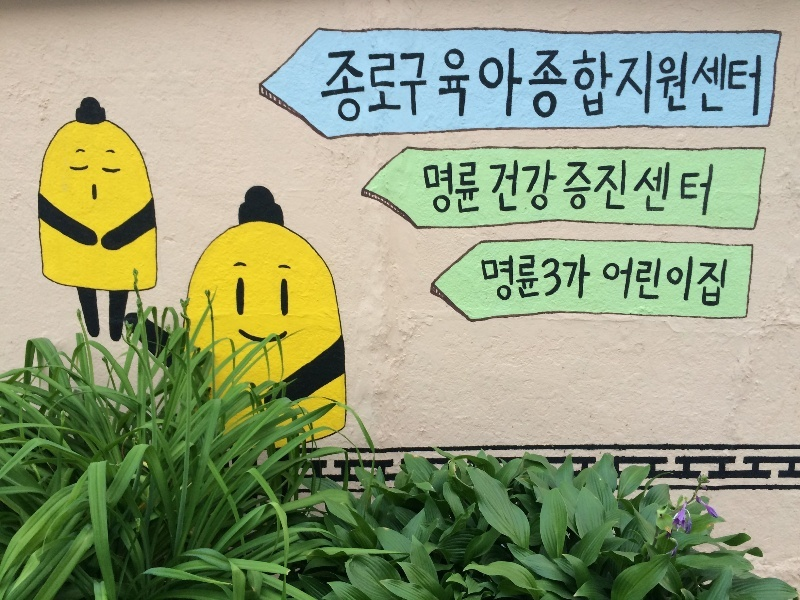text: (337, 47, 352, 126), (353, 47, 368, 126), (369, 47, 384, 126), (385, 47, 400, 126), (401, 47, 416, 126), (417, 47, 432, 126), (433, 47, 448, 126), (449, 47, 464, 126), (465, 47, 480, 126), (481, 47, 496, 126), (497, 47, 512, 126), (513, 47, 528, 126), (529, 47, 544, 126), (545, 47, 560, 126), (561, 47, 576, 126), (577, 47, 592, 126), (593, 47, 608, 126), (609, 47, 624, 126), (625, 47, 640, 126), (641, 47, 656, 126), (657, 47, 672, 126), (673, 47, 688, 126), (689, 47, 704, 126), (705, 47, 720, 126), (721, 47, 736, 126), (737, 47, 752, 126), (753, 47, 766, 126), (324, 47, 336, 126), (433, 159, 448, 219), (449, 159, 464, 219), (465, 159, 480, 219), (481, 159, 496, 219), (497, 159, 512, 219), (513, 159, 528, 219), (529, 159, 544, 219), (545, 159, 560, 219), (561, 159, 576, 219), (577, 159, 592, 219), (593, 159, 608, 219), (609, 159, 624, 219), (625, 159, 640, 219), (641, 159, 656, 219), (657, 159, 672, 219), (673, 159, 688, 219), (689, 159, 704, 219), (609, 254, 624, 313), (625, 254, 640, 313), (641, 254, 656, 313), (657, 254, 672, 313), (673, 254, 688, 313), (689, 254, 704, 313), (705, 254, 720, 313), (705, 159, 719, 219), (577, 252, 593, 304), (481, 252, 496, 304), (497, 252, 512, 304), (513, 252, 528, 304), (529, 252, 544, 304), (545, 252, 560, 304), (561, 252, 576, 304), (721, 254, 732, 313), (422, 159, 432, 219), (605, 254, 608, 313), (479, 252, 480, 304)
